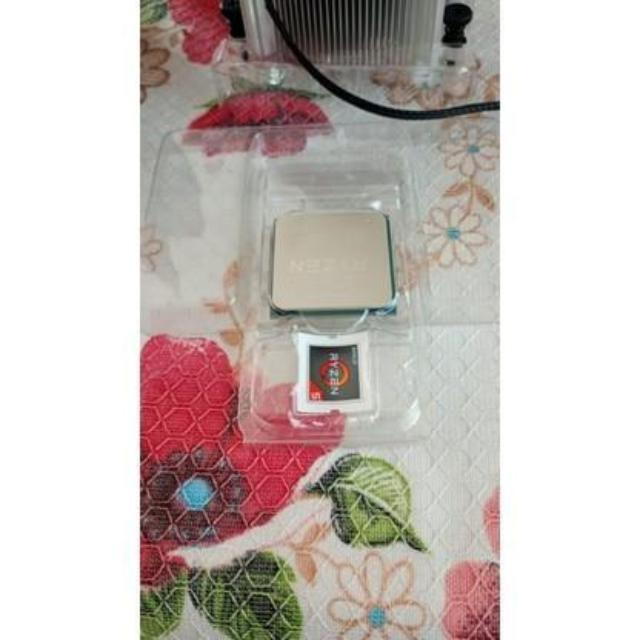CPU: (271, 212, 400, 316)
